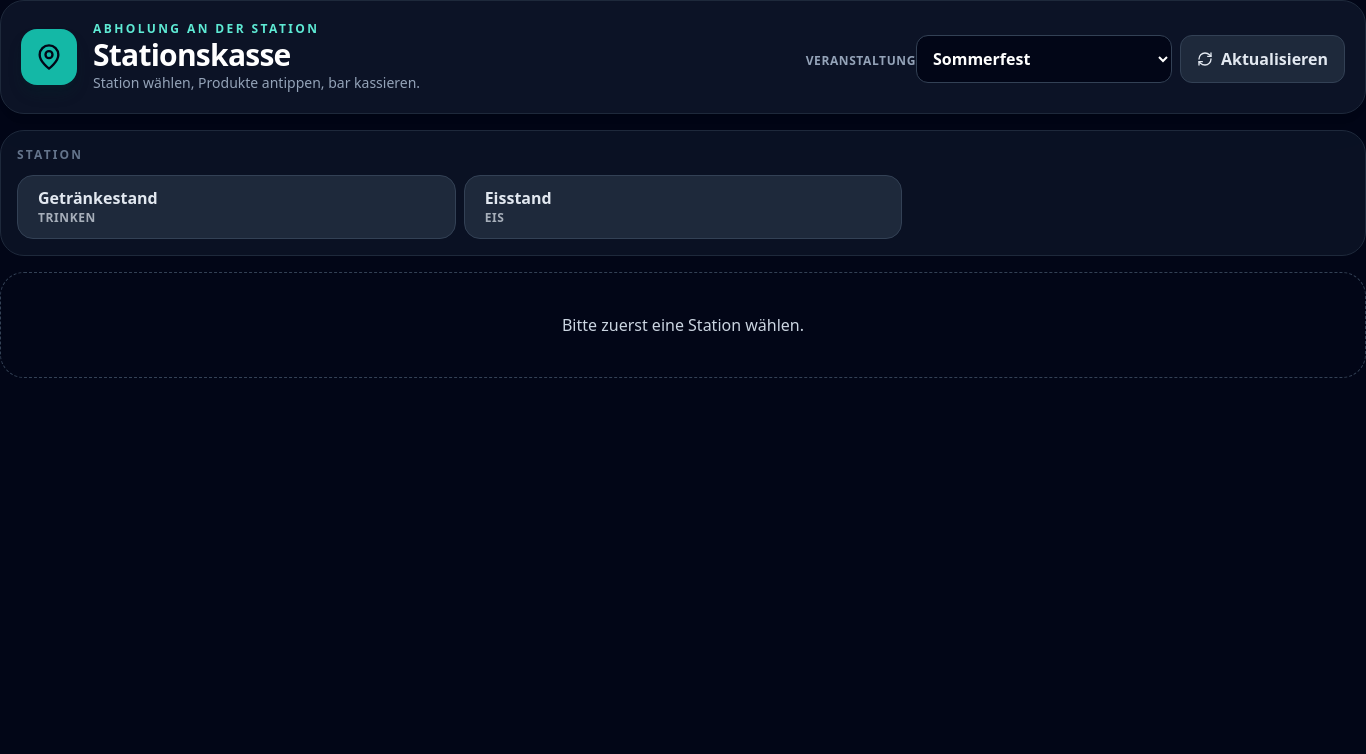
it: Stationskasse › sperrt die Stationswahl, solange der Warenkorb nicht leer ist
This screenshot has width=1366, height=754.
Click the button "Getränkestand Trinken" at (98, 198), box [17,175,456,239]
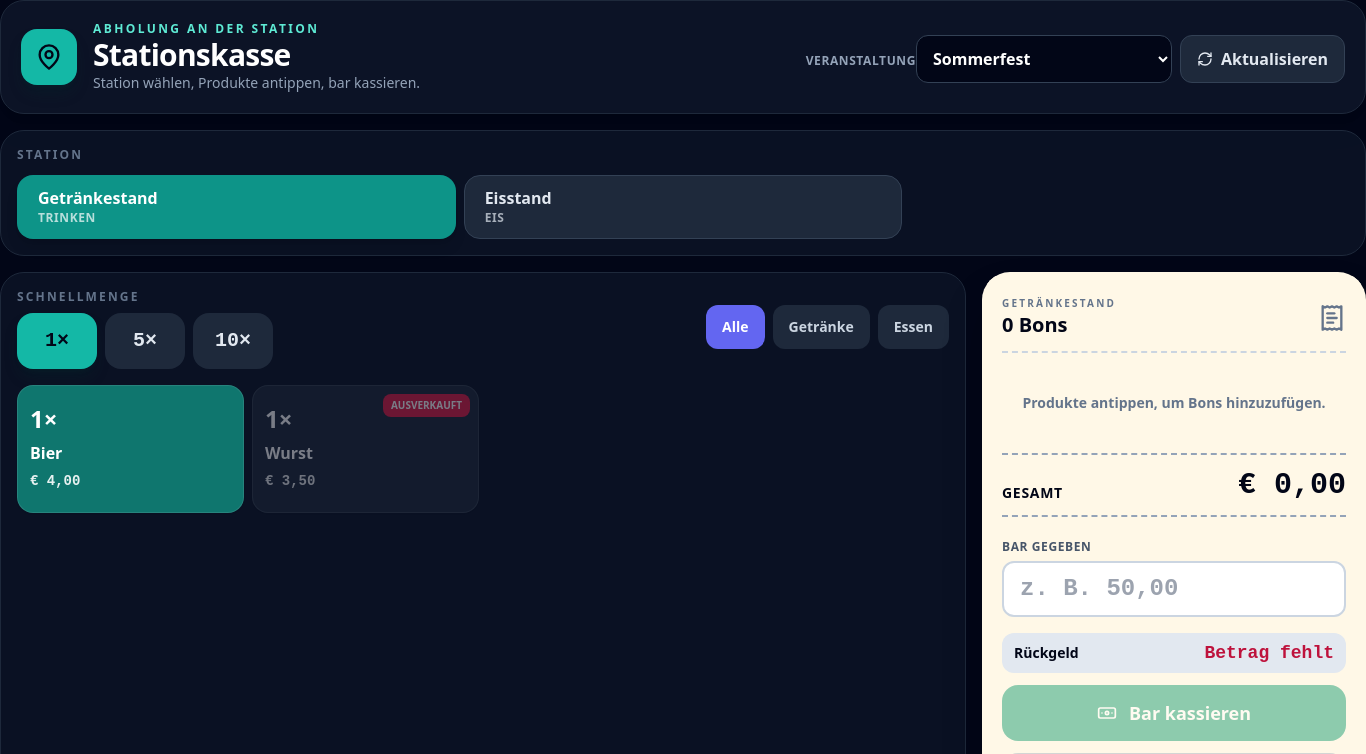
Click the text "Bier" at (46, 453), box [30,442,62,464]
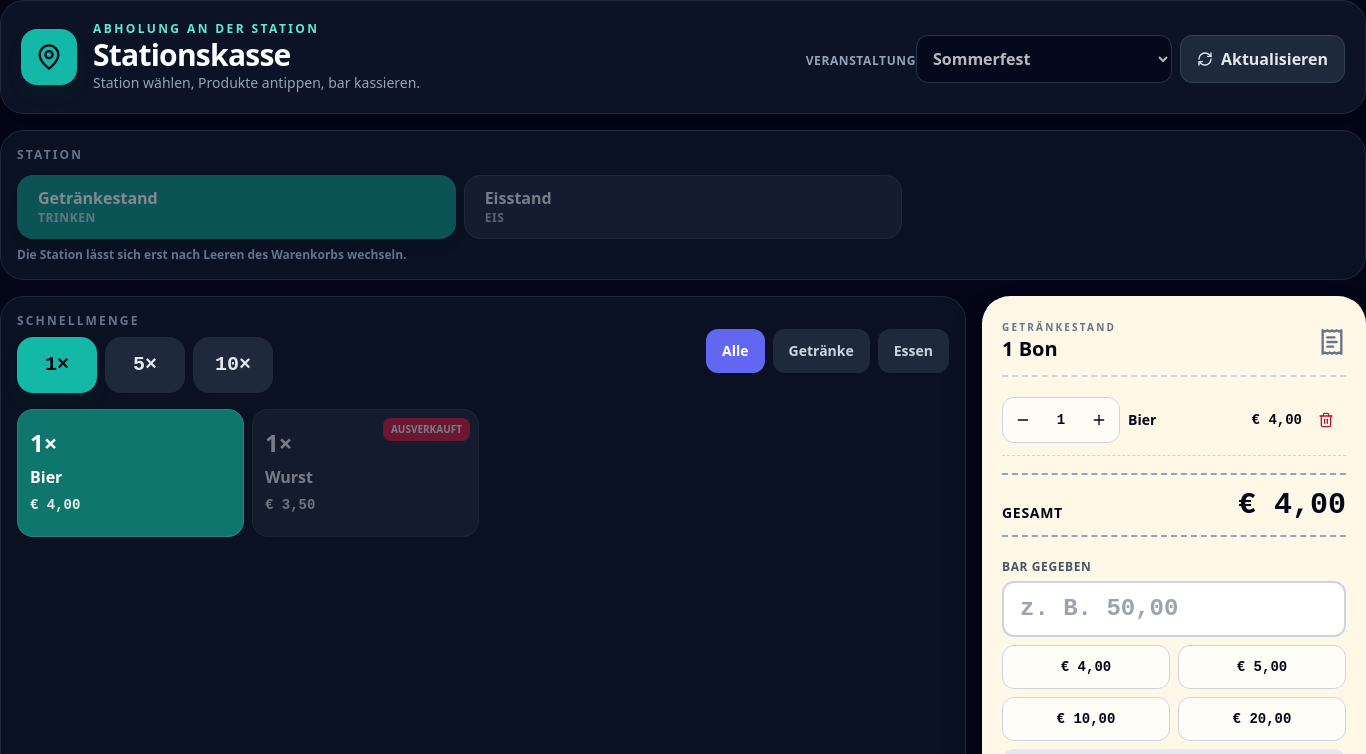
Result: the button "Getränkestand Trinken" is disabled at [17,175,456,239]
Result: the button "Eisstand Eis" is disabled at [464,175,902,239]
